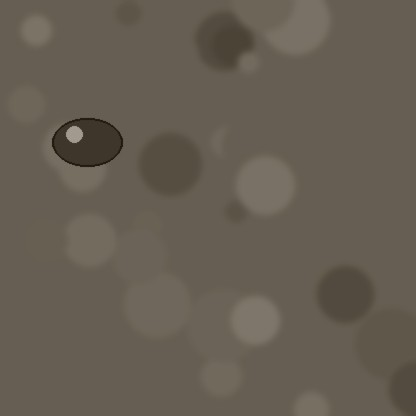gota: (52, 120, 122, 170)
